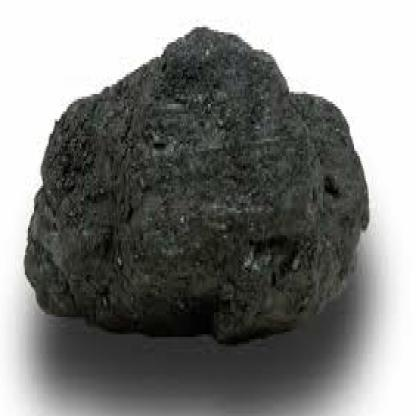Sedimentary_coal: (10, 20, 372, 342)
